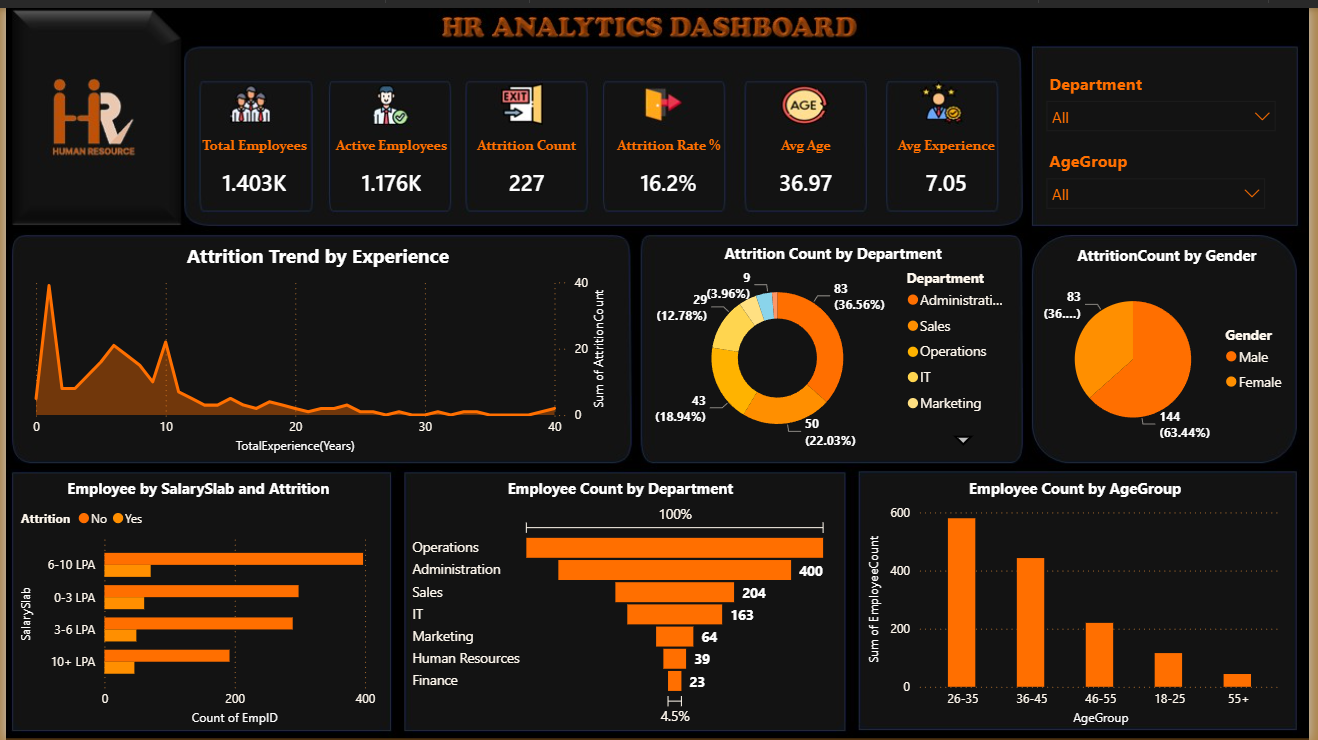

Layout of this report page (visuals, bound fields, positions):
{"tool":"powerbi","page":{"name":"Page 1","canvas":[1280,720],"ordinal":0},"visuals":[{"type":"cardVisual","title":"Total Employees","fields":{"Data":["Count(HR_Analytics-4.EmpID)"]},"box":[178.9,127,129.8,72.1],"z":1000},{"type":"cardVisual","title":"Avg Age","fields":{"Data":["Avg(HR_Analytics-4.Age)"]},"box":[728.6,127,112.5,72.1],"z":2000},{"type":"cardVisual","title":"Avg Experience","fields":{"Data":["Avg(HR_Analytics-4.YearsatCompany)"]},"box":[867.1,127,111.1,72.1],"z":3000},{"type":"cardVisual","title":"Active Employees","fields":{"Data":["CountNonNull(HR_Analytics-4.EmpID)"]},"box":[308.8,127,138.5,72.1],"z":4000},{"type":"cardVisual","title":"Attrition Count","fields":{"Data":["Sum(HR_Analytics-4.AttritionCount)"]},"box":[458.8,127,115.4,72.1],"z":5000},{"type":"cardVisual","title":"Attrition Rate %","fields":{"Data":["Measures (2).Attrition Rate %"]},"box":[587.2,127,125.5,72.1],"z":6000},{"type":"donutChart","title":"Attrition Count by Department","fields":{"Category":["HR_Analytics-4.Department"],"Y":["Sum(HR_Analytics-4.AttritionCount)"]},"box":[626.2,230.8,372.2,206.3],"z":7000},{"type":"clusteredBarChart","title":"Employee by SalarySlab and Attrition","fields":{"Category":["HR_Analytics-4.SalarySlab"],"Y":["CountNonNull(HR_Analytics-4.EmpID)"],"Series":["HR_Analytics-4.Attrition"]},"box":[10.1,461.7,357.8,248.2],"z":8000},{"type":"columnChart","title":"Employee Count by AgeGroup","fields":{"Category":["HR_Analytics-4.AgeGroup"],"Y":["Sum(HR_Analytics-4.EmployeeCount)"]},"box":[841.1,461.7,415.5,248.2],"z":10000},{"type":"pieChart","title":"AttritionCount by Gender","fields":{"Category":["HR_Analytics-4.Gender"],"Y":["Sum(HR_Analytics-4.AttritionCount)"]},"box":[1011.4,232.3,256.8,206.3],"z":11000},{"type":"areaChart","title":"Attrition Trend by Experience","fields":{"Category":["HR_Analytics-4.TotalExperience(Years)"],"Y2":["Sum(HR_Analytics-4.AttritionCount)"]},"box":[14.4,230.8,582.9,212.1],"z":12000},{"type":"funnel","title":"Employee Count by Department","fields":{"Category":["HR_Analytics-4.Department"],"Y":["CountNonNull(HR_Analytics-4.EmpID)"]},"box":[393.9,461.7,418.4,248.2],"z":13000},{"type":"slicer","fields":{"Values":["HR_Analytics-4.Department"]},"box":[1011.4,57.7,245.3,69.3],"z":14000},{"type":"slicer","fields":{"Values":["HR_Analytics-4.AgeGroup"]},"box":[1011.4,134.2,235.2,64.9],"z":15000}]}

Visuals, with their boxes in screenshot pixels (x1, y1, x2, y2), scaled from the page's 1280x720 canvas onto the 1318x740 screenshot:
"Total Employees" cardVisual: rect(184, 131, 318, 205)
"Avg Age" cardVisual: rect(750, 131, 866, 205)
"Avg Experience" cardVisual: rect(893, 131, 1007, 205)
"Active Employees" cardVisual: rect(318, 131, 461, 205)
"Attrition Count" cardVisual: rect(472, 131, 591, 205)
"Attrition Rate %" cardVisual: rect(605, 131, 734, 205)
"Attrition Count by Department" donutChart: rect(645, 237, 1028, 449)
"Employee by SalarySlab and Attrition" clusteredBarChart: rect(10, 475, 379, 730)
"Employee Count by AgeGroup" columnChart: rect(866, 475, 1294, 730)
"AttritionCount by Gender" pieChart: rect(1041, 239, 1306, 451)
"Attrition Trend by Experience" areaChart: rect(15, 237, 615, 455)
"Employee Count by Department" funnel: rect(406, 475, 836, 730)
slicer - HR_Analytics-4.Department: rect(1041, 59, 1294, 131)
slicer - HR_Analytics-4.AgeGroup: rect(1041, 138, 1284, 205)
